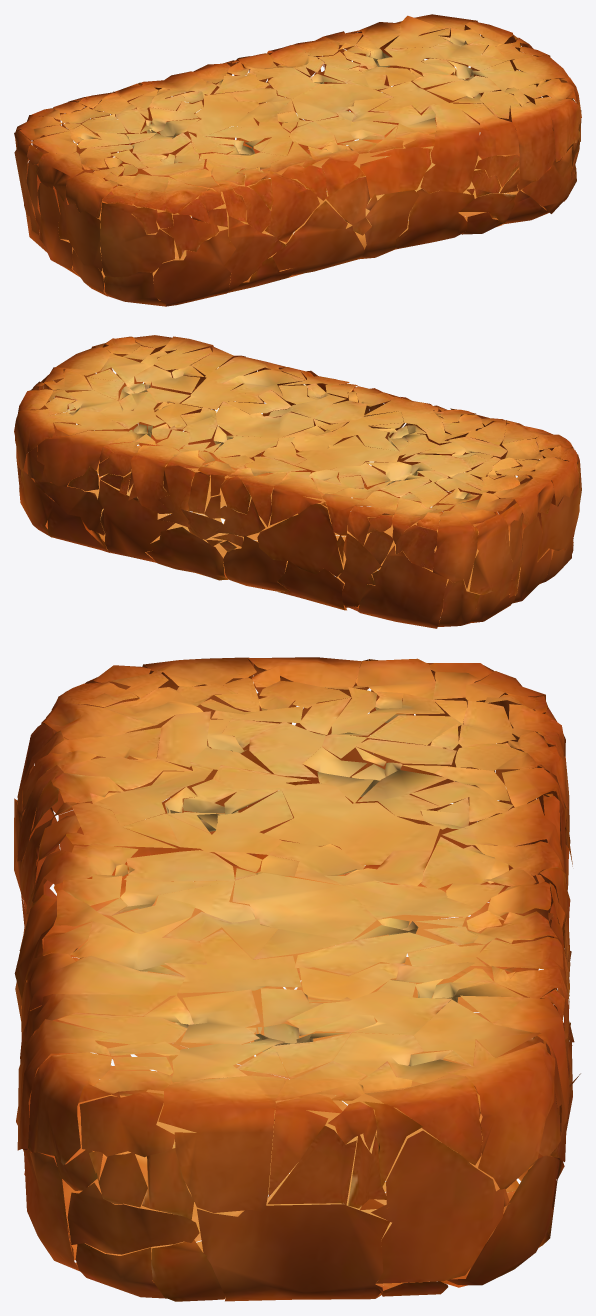
Rendered from rusk.glb.
3 views of the same model, one above another, from view 1: azimuth 30°, elevation 25°; view 2: azimuth 150°, elevation 25°; view 3: azimuth 270°, elevation 25° (orthographic). The views are drawn at different scales.
Parts seen in each view (by area): view 1: rusk; view 2: rusk; view 3: rusk.
Part boxes in pixels (<box>): rusk: <box>14,14,581,306</box>; rusk: <box>14,335,581,628</box>; rusk: <box>14,657,580,1301</box>.
Bounding box in the file's own units: 0.1 × 0.0219 × 0.052.
1 material, 1 textured.
